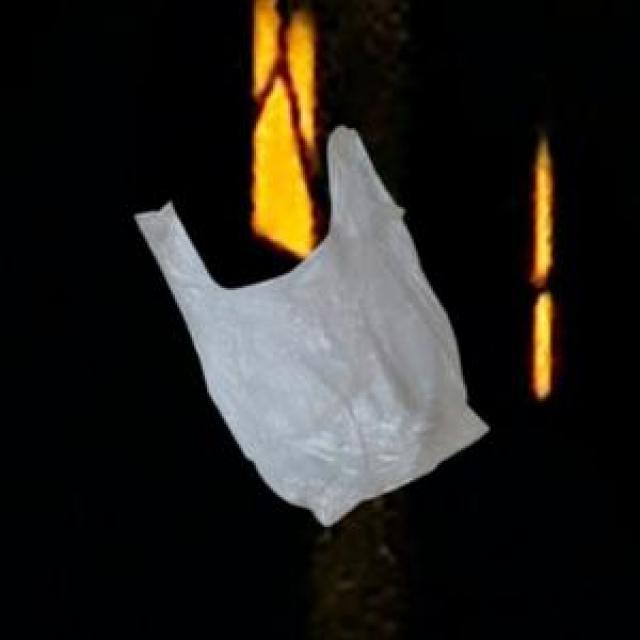waste: (134, 126, 492, 527)
